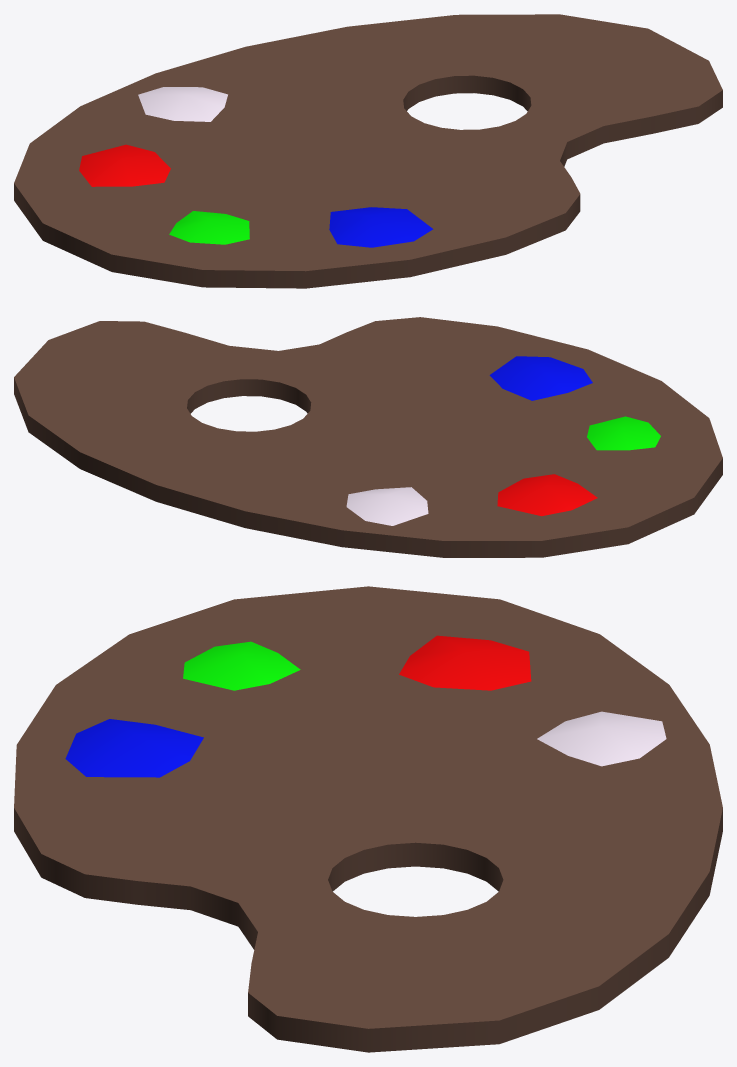
File: Palette.glb
The picture shows the model from 3 angles, top to bottom: view 1: azimuth 30°, elevation 25°; view 2: azimuth 150°, elevation 25°; view 3: azimuth 270°, elevation 25°; orthographic projection. The views are drawn at different scales.
Parts seen in each view (by area): view 1: BezierCircle; view 2: BezierCircle; view 3: BezierCircle.
Boxes of the visible parts, box(x1,y1,x2,y2) form: BezierCircle: box(14, 14, 722, 288); BezierCircle: box(14, 317, 722, 557); BezierCircle: box(14, 586, 722, 1052).
Size of the model in its own units: 0.3 by 0.0121 by 0.2031.
1 material, 1 textured.
